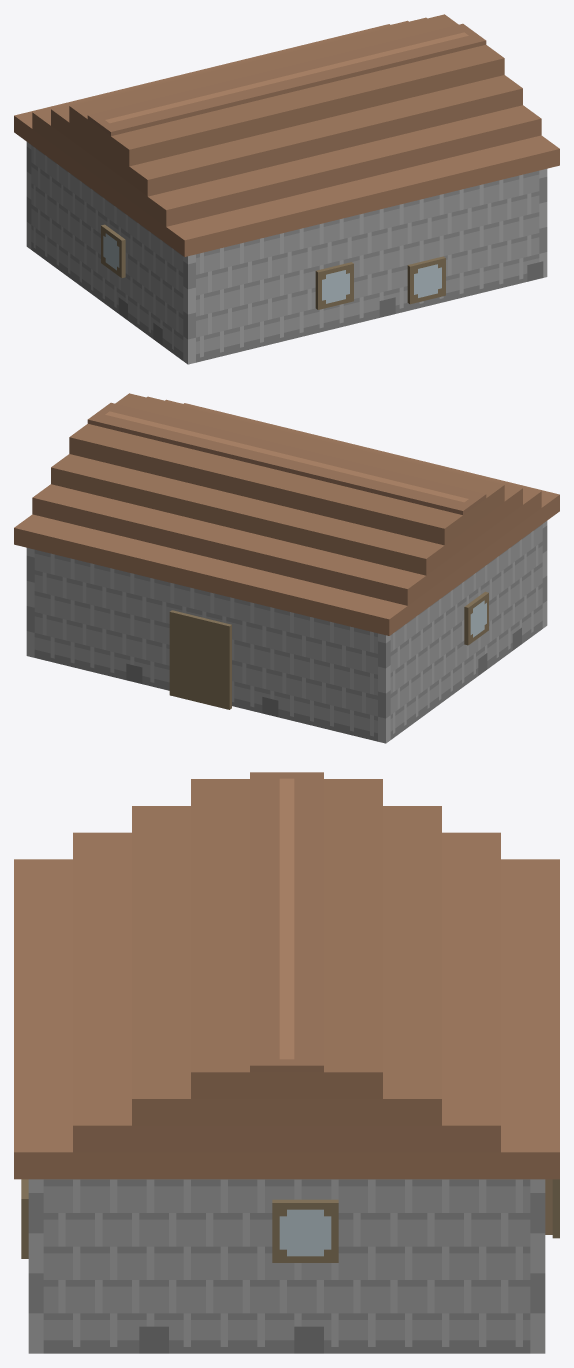
File: taller_lapidario_02.glb
3 renders of one model, top to bottom at view 1: azimuth 30°, elevation 25°; view 2: azimuth 150°, elevation 25°; view 3: azimuth 270°, elevation 25°, orthographic. The views are drawn at different scales.
Visible parts, largest first — view 1: taller_lapidario_02; view 2: taller_lapidario_02; view 3: taller_lapidario_02.
Part boxes in pixels (x1,y1,x2,y2): taller_lapidario_02: [14, 14, 559, 364]; taller_lapidario_02: [14, 393, 559, 743]; taller_lapidario_02: [14, 772, 559, 1353].
Size of the model in its own units: 9.4 by 4.4 by 7.4.
